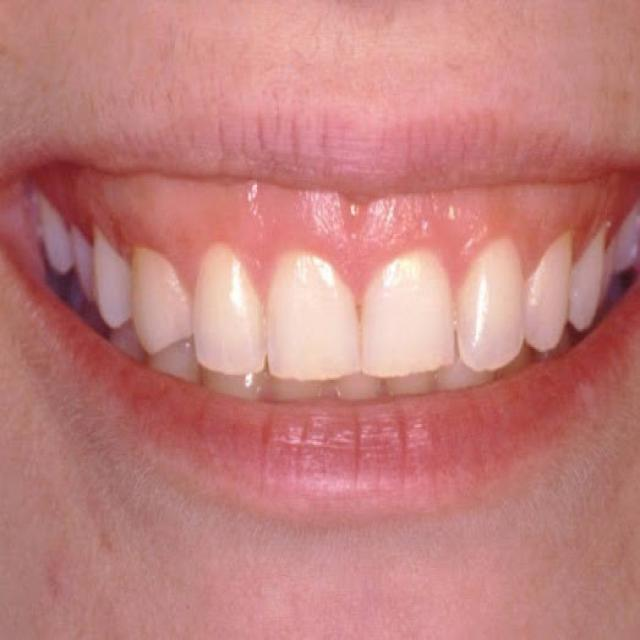tooth: (255, 252, 354, 360), (371, 255, 453, 367), (460, 240, 519, 364), (204, 252, 256, 360), (132, 252, 179, 331), (519, 240, 565, 312), (574, 218, 600, 322), (92, 239, 126, 313), (613, 209, 640, 262), (80, 244, 93, 291)
